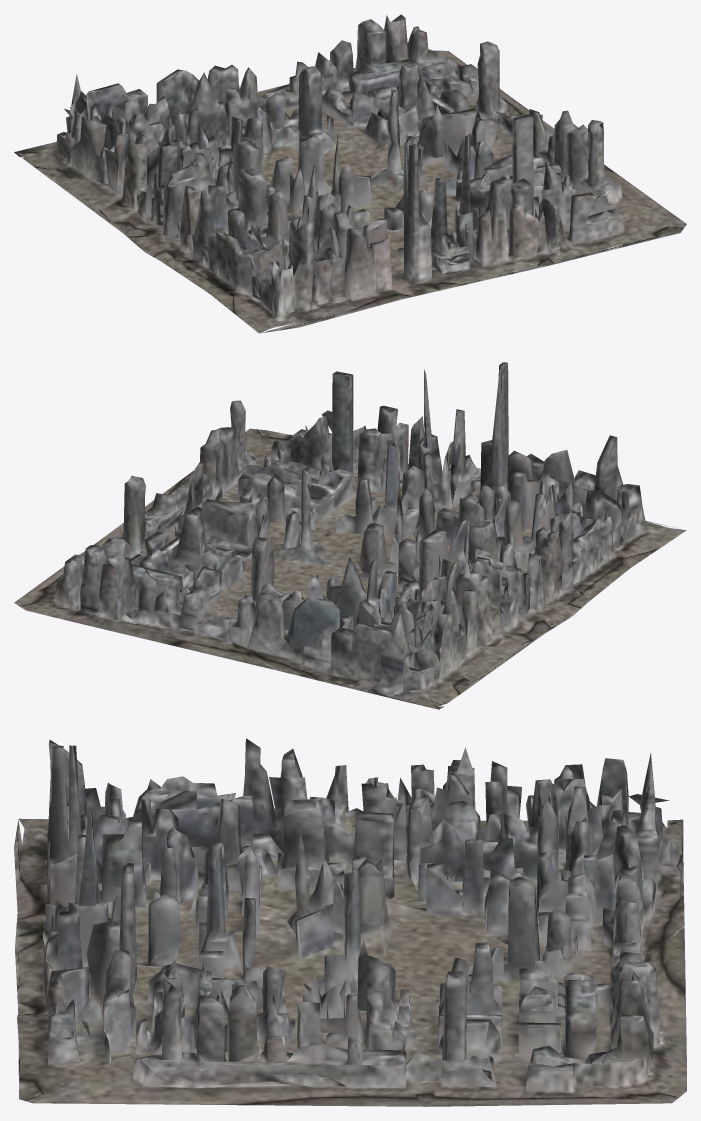
Rendered from ny_hudson_xfar.glb.
3 views of the same model, one above another, from view 1: azimuth 30°, elevation 25°; view 2: azimuth 150°, elevation 25°; view 3: azimuth 270°, elevation 25° (orthographic). The views are drawn at different scales.
Visible parts, largest first — view 1: ny_hudson; view 2: ny_hudson; view 3: ny_hudson.
Part boxes in pixels (<box>): ny_hudson: <box>14,14,686,333</box>; ny_hudson: <box>14,362,686,709</box>; ny_hudson: <box>14,738,686,1106</box>.
Bounding box in the file's own units: 1.9 × 0.5842 × 1.9.
Materials: 1 (1 with a texture image).
